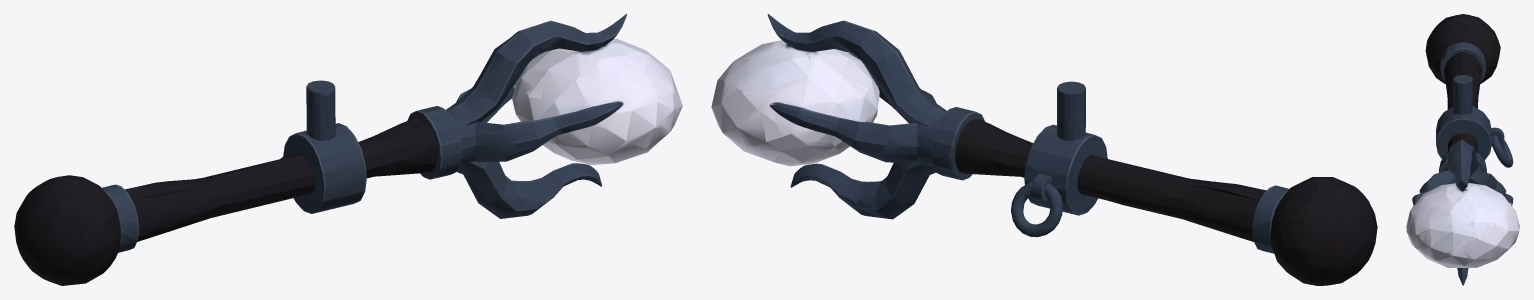
The model's file is prism.glb.
The picture shows the model from 3 angles, left to right: view 1: azimuth 30°, elevation 25°; view 2: azimuth 150°, elevation 25°; view 3: azimuth 270°, elevation 25°; orthographic projection. The views are drawn at different scales.
Size of the model in its own units: 1.9 by 0.533 by 0.4265.
Materials: 1 (1 with a texture image).
